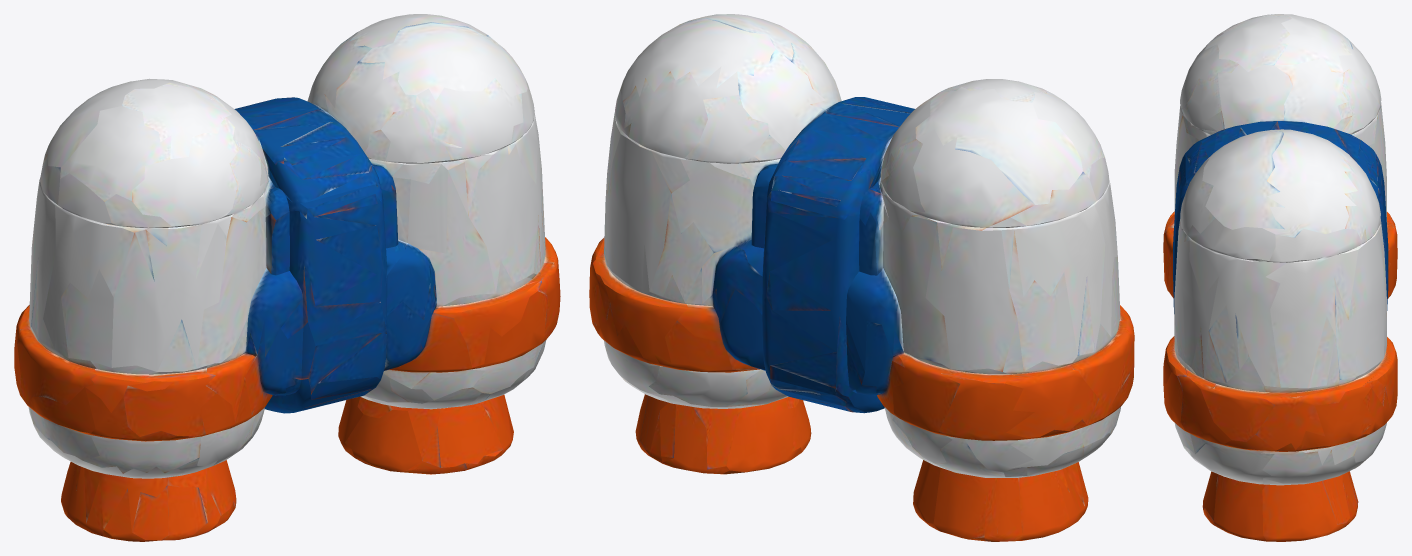
Rendered from udstyr-jetpack.glb.
The picture shows the model from 3 angles, left to right: view 1: azimuth 30°, elevation 25°; view 2: azimuth 150°, elevation 25°; view 3: azimuth 270°, elevation 25°; orthographic projection. The views are drawn at different scales.
Size of the model in its own units: 1.9 by 1.55 by 0.8558.
Materials: 1 (1 with a texture image).
